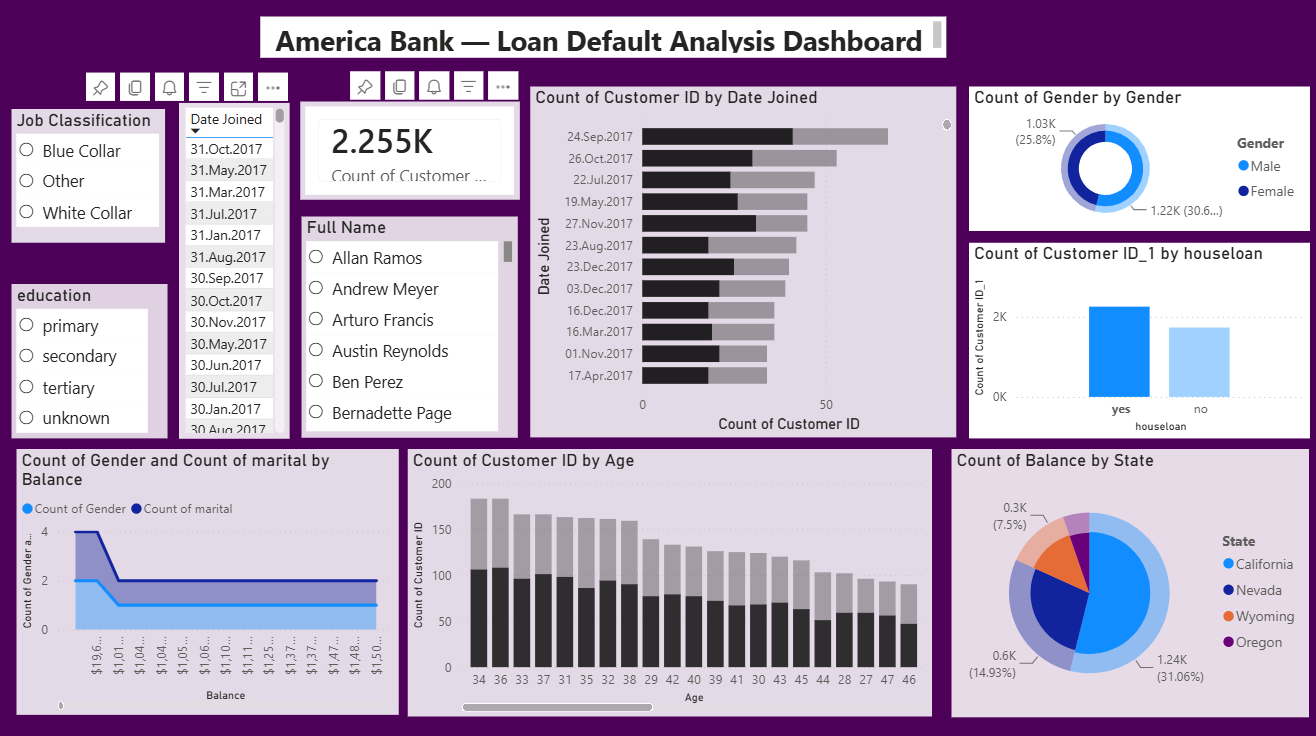

What the dashboard file says about the page in this screenshot:
{"tool":"powerbi","page":{"name":"Page 1","canvas":[1280,720],"ordinal":0},"visuals":[{"type":"columnChart","fields":{"Category":["AmericaBank1 (1).Age"],"Y":["CountNonNull(AmericaBank1 (1).Customer ID)"]},"box":[396.6,436.4,507.7,259.3],"z":0},{"type":"stackedAreaChart","fields":{"Category":["AmericaBank1 (1).Balance"],"Y":["CountNonNull(AmericaBank1 (1).Gender)","CountNonNull(AmericaBank1 (1).marital)"]},"box":[16.5,436.4,370.5,258],"z":1000},{"type":"donutChart","fields":{"Y":["CountNonNull(AmericaBank1 (1).Gender)"],"Category":["AmericaBank1 (1).Gender"]},"box":[940,85.1,330.7,140],"z":2000},{"type":"textbox","box":[253.4,16.9,664.7,39.8],"z":3000},{"type":"listSlicer","fields":{"Values":["AmericaBank1 (1).Job Classification"]},"box":[11.9,107.1,148.7,129.4],"z":4000},{"type":"cardVisual","fields":{"Data":["Count(AmericaBank1 (1).Customer ID)"]},"box":[291.5,99.6,212.6,95.2],"z":5000},{"type":"clusteredColumnChart","fields":{"Y":["CountNonNull(AmericaBank1 (1).Customer ID_1)"],"Category":["AmericaBank1 (1).houseloan"]},"box":[940,236,330.7,189.4],"z":6000},{"type":"barChart","fields":{"Category":["AmericaBank1 (1).Date Joined"],"Y":["CountNonNull(AmericaBank1 (1).Customer ID)"]},"box":[514.6,85.1,413,340.3],"z":7000},{"type":"tableEx","fields":{"Values":["AmericaBank1 (1).Date Joined"]},"box":[174.3,100.2,107,325.2],"z":8000},{"type":"listSlicer","fields":{"Values":["AmericaBank1 (1).education"]},"box":[12.3,275.8,150.9,149.6],"z":9000},{"type":"listSlicer","fields":{"Values":["AmericaBank1 (1).Full Name"]},"box":[293.7,211.3,209.9,214.1],"z":10000},{"type":"pieChart","fields":{"Category":["AmericaBank1 (1).State"],"Y":["CountNonNull(AmericaBank1 (1).Balance)"]},"box":[923.4,435.7,346.5,260.2],"z":11000}]}

Visuals, with their boxes in screenshot pixels (x1, y1, x2, y2), scaled from the page's 1280x720 canvas onto the 1316x736 screenshot:
columnChart - AmericaBank1 (1).Age x CountNonNull(AmericaBank1 (1).Customer ID): crop(408, 446, 930, 711)
stackedAreaChart - AmericaBank1 (1).Balance x CountNonNull(AmericaBank1 (1).Gender): crop(17, 446, 398, 710)
donutChart - CountNonNull(AmericaBank1 (1).Gender) x AmericaBank1 (1).Gender: crop(966, 87, 1306, 230)
textbox: crop(261, 17, 944, 58)
listSlicer - AmericaBank1 (1).Job Classification: crop(12, 109, 165, 242)
cardVisual - Count(AmericaBank1 (1).Customer ID): crop(300, 102, 518, 199)
clusteredColumnChart - CountNonNull(AmericaBank1 (1).Customer ID_1) x AmericaBank1 (1).houseloan: crop(966, 241, 1306, 435)
barChart - AmericaBank1 (1).Date Joined x CountNonNull(AmericaBank1 (1).Customer ID): crop(529, 87, 954, 435)
tableEx - AmericaBank1 (1).Date Joined: crop(179, 102, 289, 435)
listSlicer - AmericaBank1 (1).education: crop(13, 282, 168, 435)
listSlicer - AmericaBank1 (1).Full Name: crop(302, 216, 518, 435)
pieChart - AmericaBank1 (1).State x CountNonNull(AmericaBank1 (1).Balance): crop(949, 445, 1306, 711)
